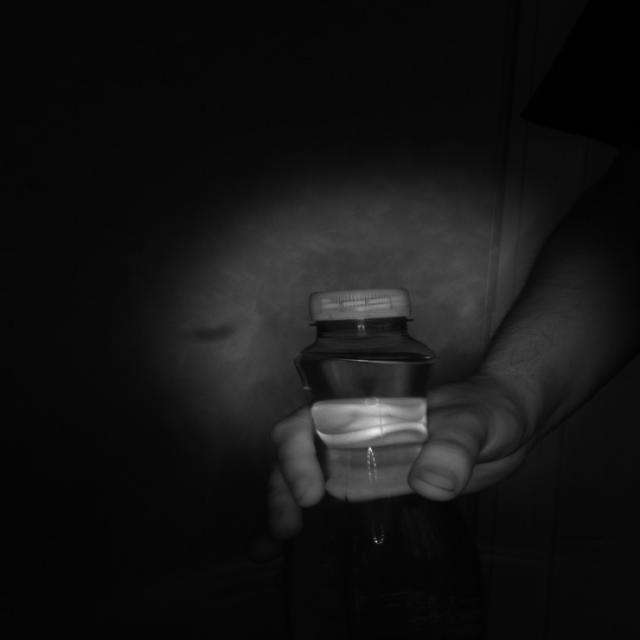Good: (304, 284, 406, 318)
